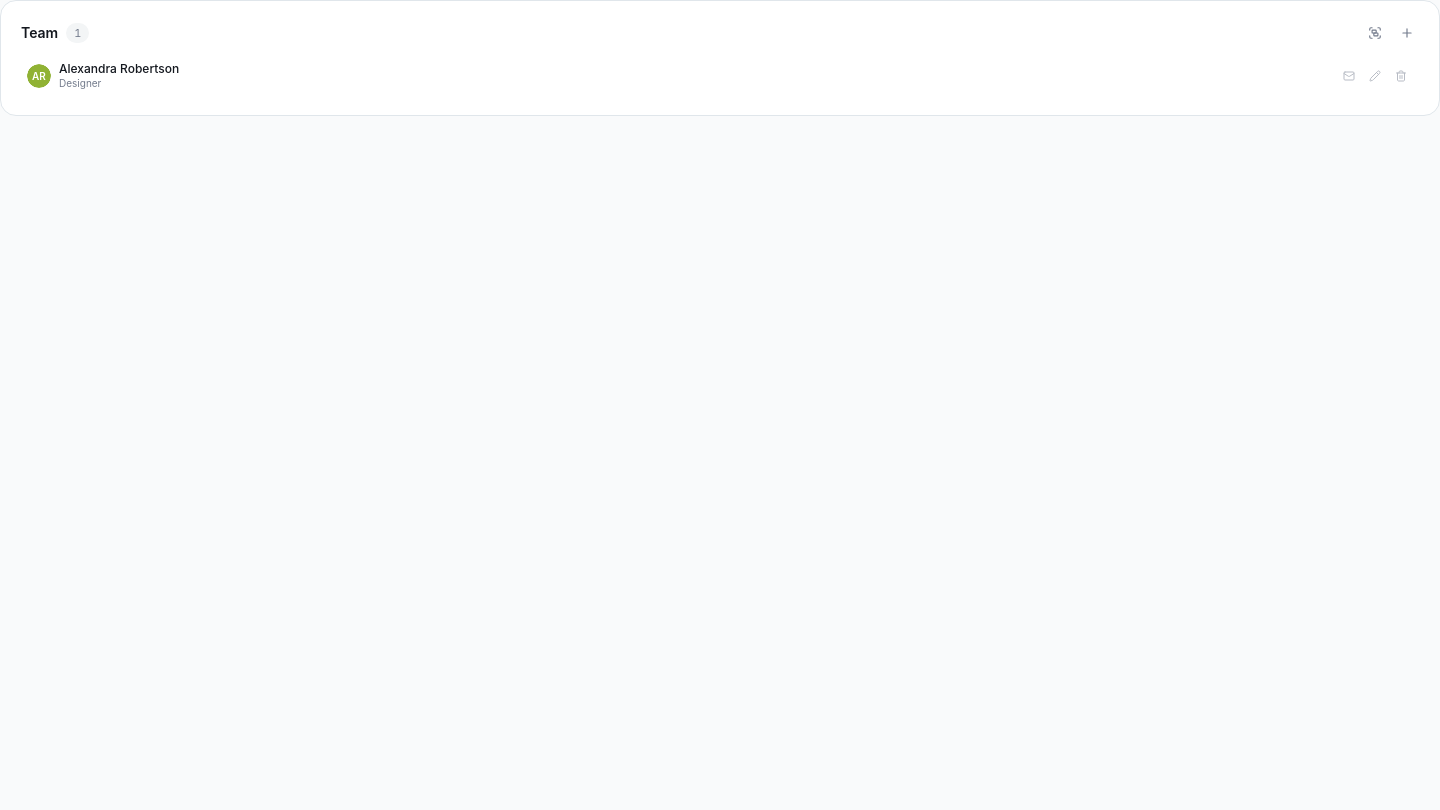
TeamBlock — mobile add/edit/remove (M3) › opens the bottom-sheet add form when + is tapped on mobile
What coordinates should you click on to do the following:
click the button named "Add team member"
I would click on:
 (1407, 33)
Its box is 1395,21 -> 1419,45.
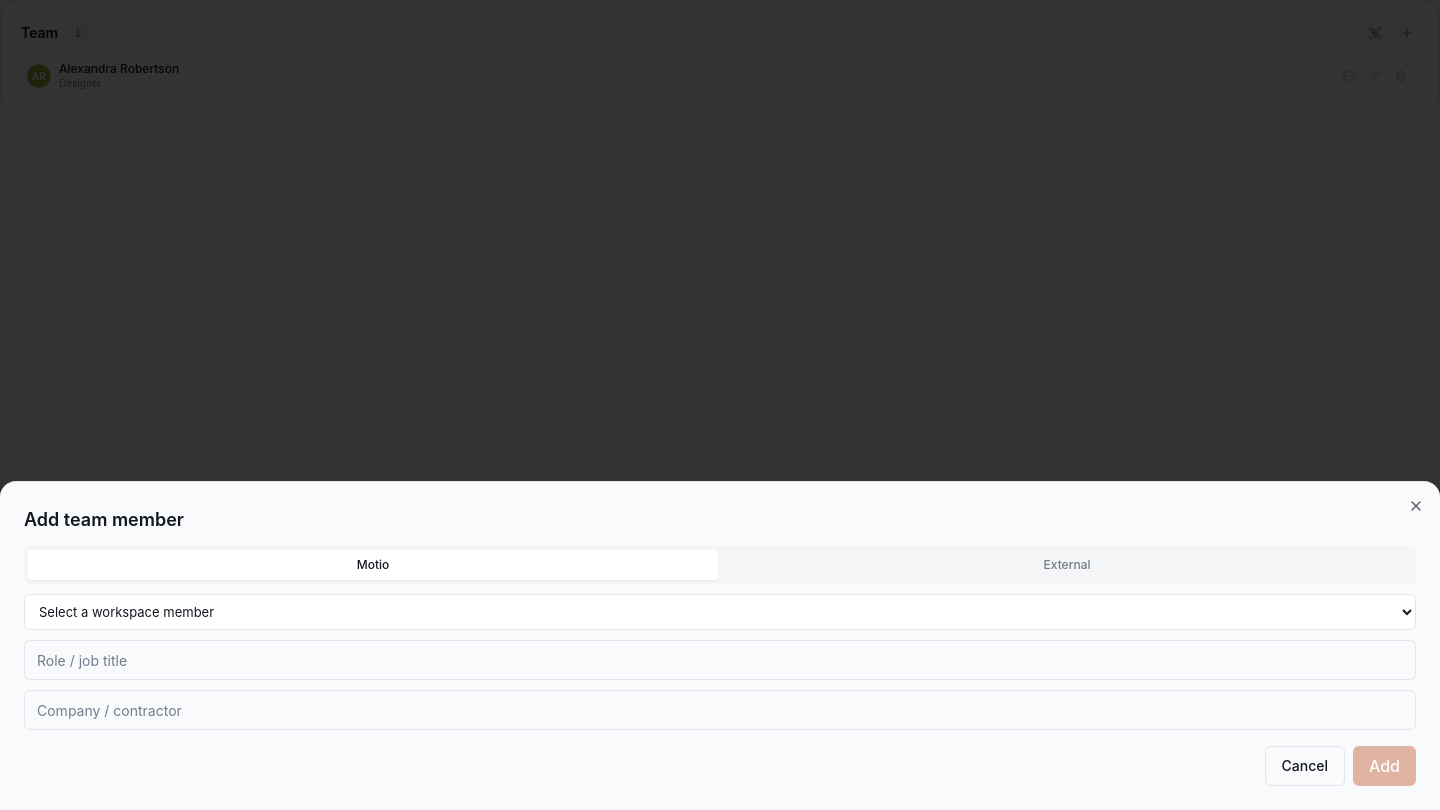
Expected: the dialog shows "Add team member", 24,509 -> 184,530
Expected: the button "Motio" is shown, 28,550 -> 718,580
Expected: the button "External" is shown, 722,550 -> 1412,580
